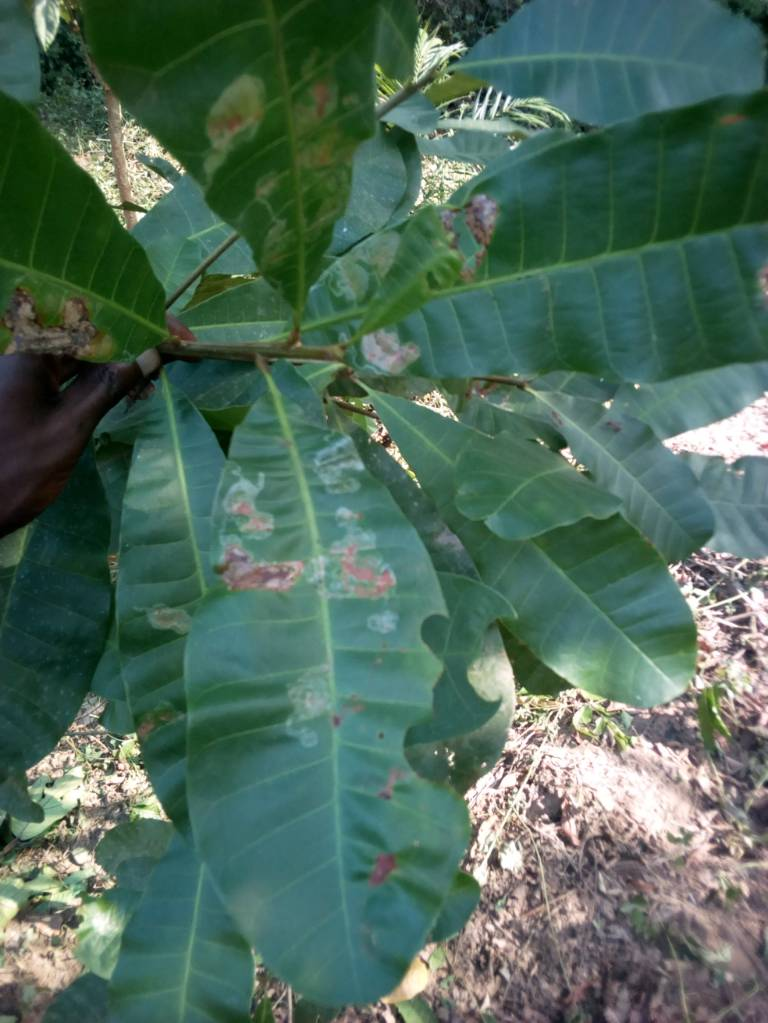Dysdercus wolkerii: (163, 350, 484, 1014), (348, 84, 768, 442)
